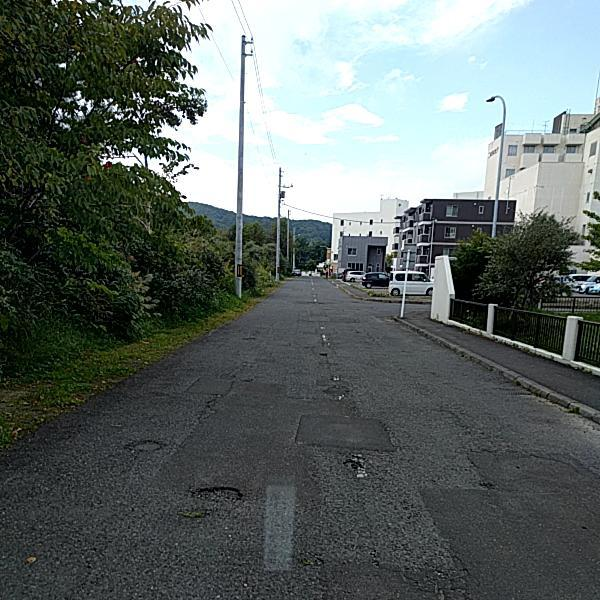D40: (186, 480, 247, 505), (122, 431, 171, 456), (341, 445, 367, 472)
